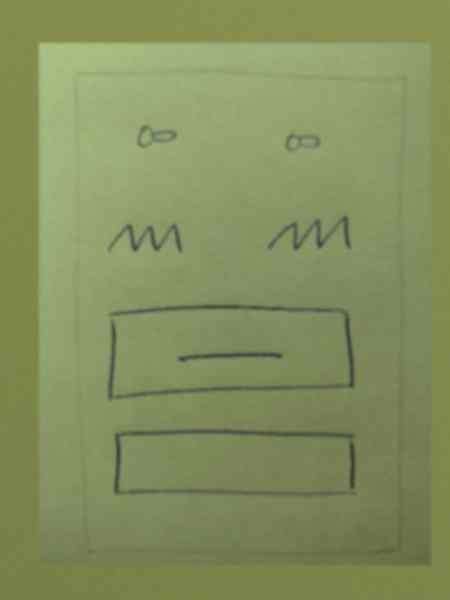button: (101, 297, 358, 404)
switch: (126, 114, 186, 154), (277, 123, 334, 162)
text: (262, 206, 359, 258), (98, 213, 191, 259)
text_input: (106, 425, 366, 505)
